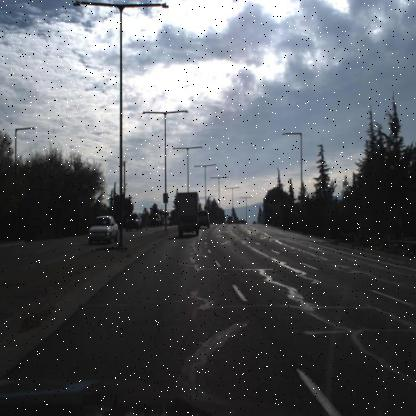car: (86, 213, 120, 247), (125, 209, 141, 232), (198, 210, 210, 229), (149, 210, 161, 227), (226, 214, 234, 225)
truck: (176, 192, 198, 236)
